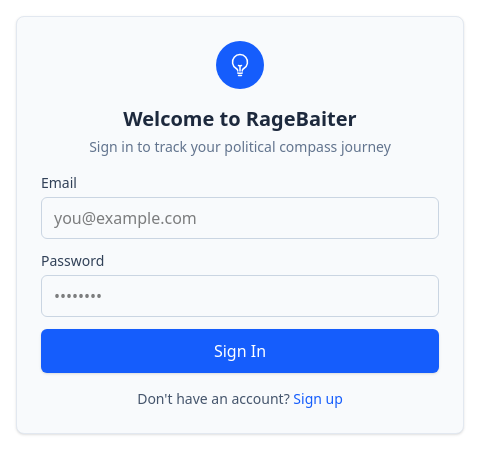
Test: AuthGate › switches to verify-email after signup returns no session
Expected: the button "Sign In" is shown, 41,329 -> 439,373
Click the button "Sign up".
click(318, 399)  # box 293,389 -> 343,409
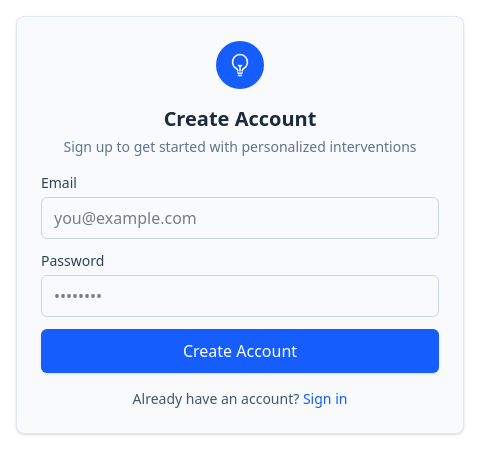
Now the button "Create Account" is shown, box 41,329 -> 439,373
Type "new@example.com" into the field labelled "Email".
click(240, 218); type("new@example.com")  # box 41,197 -> 439,239
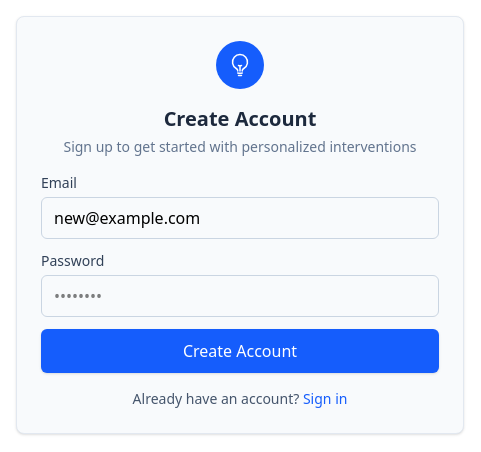
Type "secret123" into the password field labelled "Password".
click(240, 296); type("secret123")  # box 41,275 -> 439,317
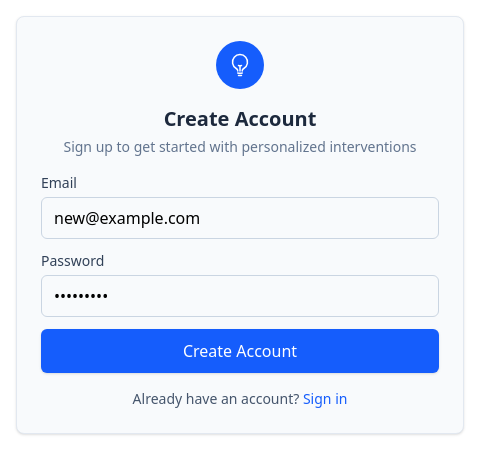
Click the button "Create Account".
click(240, 351)  # box 41,329 -> 439,373
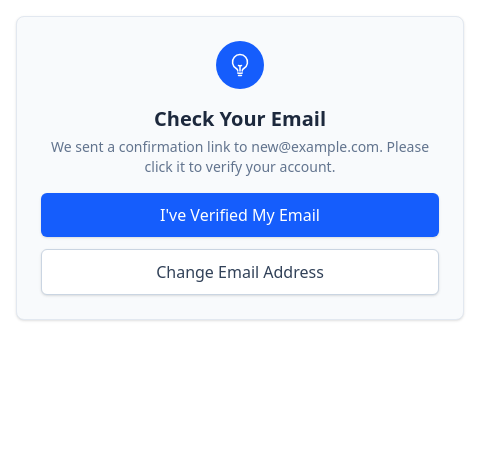
Now the button "I've Verified My Email" is shown, box 41,193 -> 439,237
Now the text "We sent a confirmation link to new@example.com" is shown, box 51,137 -> 429,176
